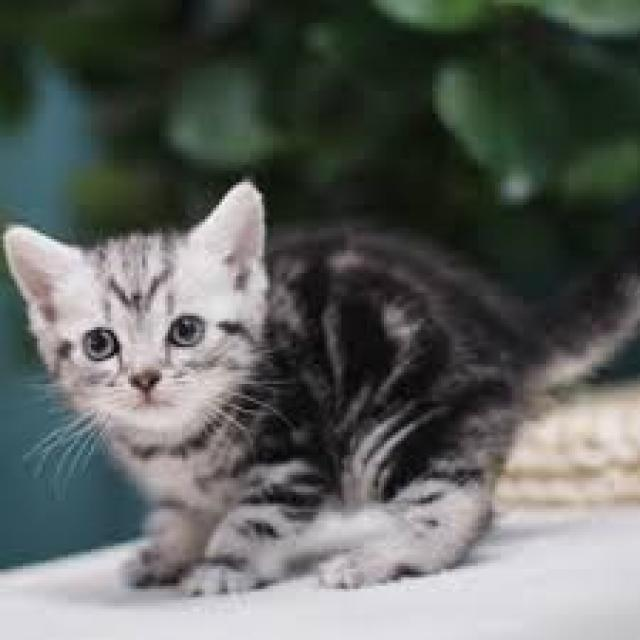cat-face: (7, 159, 352, 486)
